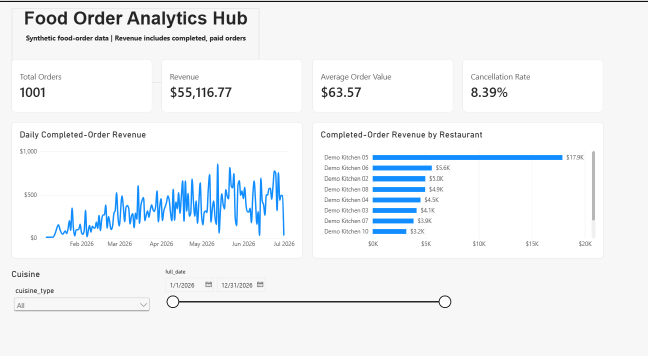

The dashboard page shown, as its layout file describes it:
{"tool":"powerbi","page":{"name":"Overview","canvas":[1920,1080],"ordinal":1},"visuals":[{"type":"textbox","box":[30,15,512,153],"z":0},{"type":"textbox","box":[30,65,512,40],"z":1000},{"type":"cardVisual","fields":{"Data":["fact_orders.Total Orders"]},"box":[30,120,290,110],"z":2000},{"type":"cardVisual","fields":{"Data":["fact_orders.Revenue"]},"box":[340,120,290,110],"z":3000},{"type":"cardVisual","fields":{"Data":["fact_orders.Average Order Value"]},"box":[650,120,290,110],"z":3001},{"type":"cardVisual","fields":{"Data":["fact_orders.Cancellation Rate"]},"box":[960,120,290,110],"z":3002},{"type":"lineChart","title":"Daily Completed-Order Revenue","fields":{"Category":["dim_date.full_date"],"Y":["fact_orders.Revenue"]},"box":[30,250,600,280],"z":3003},{"type":"clusteredBarChart","title":"Completed-Order Revenue by Restaurant","fields":{"Category":["dim_restaurants.restaurant_name"],"Y":["fact_orders.Revenue"]},"box":[650,250,600,280],"z":3004},{"type":"slicer","title":"Cuisine","fields":{"Values":["dim_restaurants.cuisine_type"]},"box":[30,550,290,100],"z":3005},{"type":"slicer","fields":{"Values":["dim_date.full_date"]},"box":[340,550,600,100],"z":3006}]}

Visuals, with their boxes in screenshot pixels (x1, y1, x2, y2), scaled from the page's 1920x1080 canvas onto the 648x356 screenshot:
textbox: (left=10, top=5, right=183, bottom=55)
textbox: (left=10, top=21, right=183, bottom=35)
cardVisual - fact_orders.Total Orders: (left=10, top=40, right=108, bottom=76)
cardVisual - fact_orders.Revenue: (left=115, top=40, right=213, bottom=76)
cardVisual - fact_orders.Average Order Value: (left=219, top=40, right=317, bottom=76)
cardVisual - fact_orders.Cancellation Rate: (left=324, top=40, right=422, bottom=76)
"Daily Completed-Order Revenue" lineChart: (left=10, top=82, right=213, bottom=175)
"Completed-Order Revenue by Restaurant" clusteredBarChart: (left=219, top=82, right=422, bottom=175)
"Cuisine" slicer: (left=10, top=181, right=108, bottom=214)
slicer - dim_date.full_date: (left=115, top=181, right=317, bottom=214)
